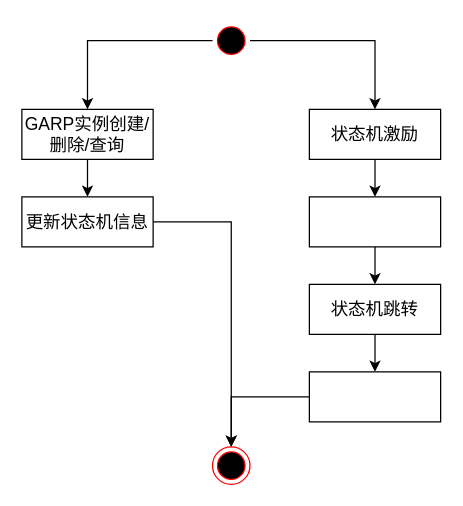
Image size: 463x506. Some labels were removed from this diagram. Here are the shapes that lost their labels. From the top down, the centre of each, then its label:
At (374,221): "属性注册/注销/声明".
At (374,396): "传播到其余GARP实例".
